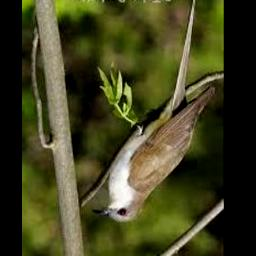Cuckoo: (91, 86, 216, 222)
